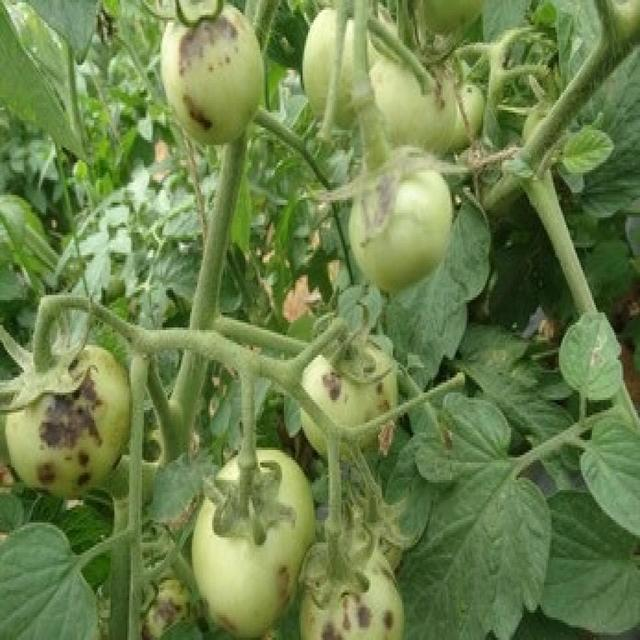Spotted wilt Virus Fruit: (44, 49, 233, 390)
